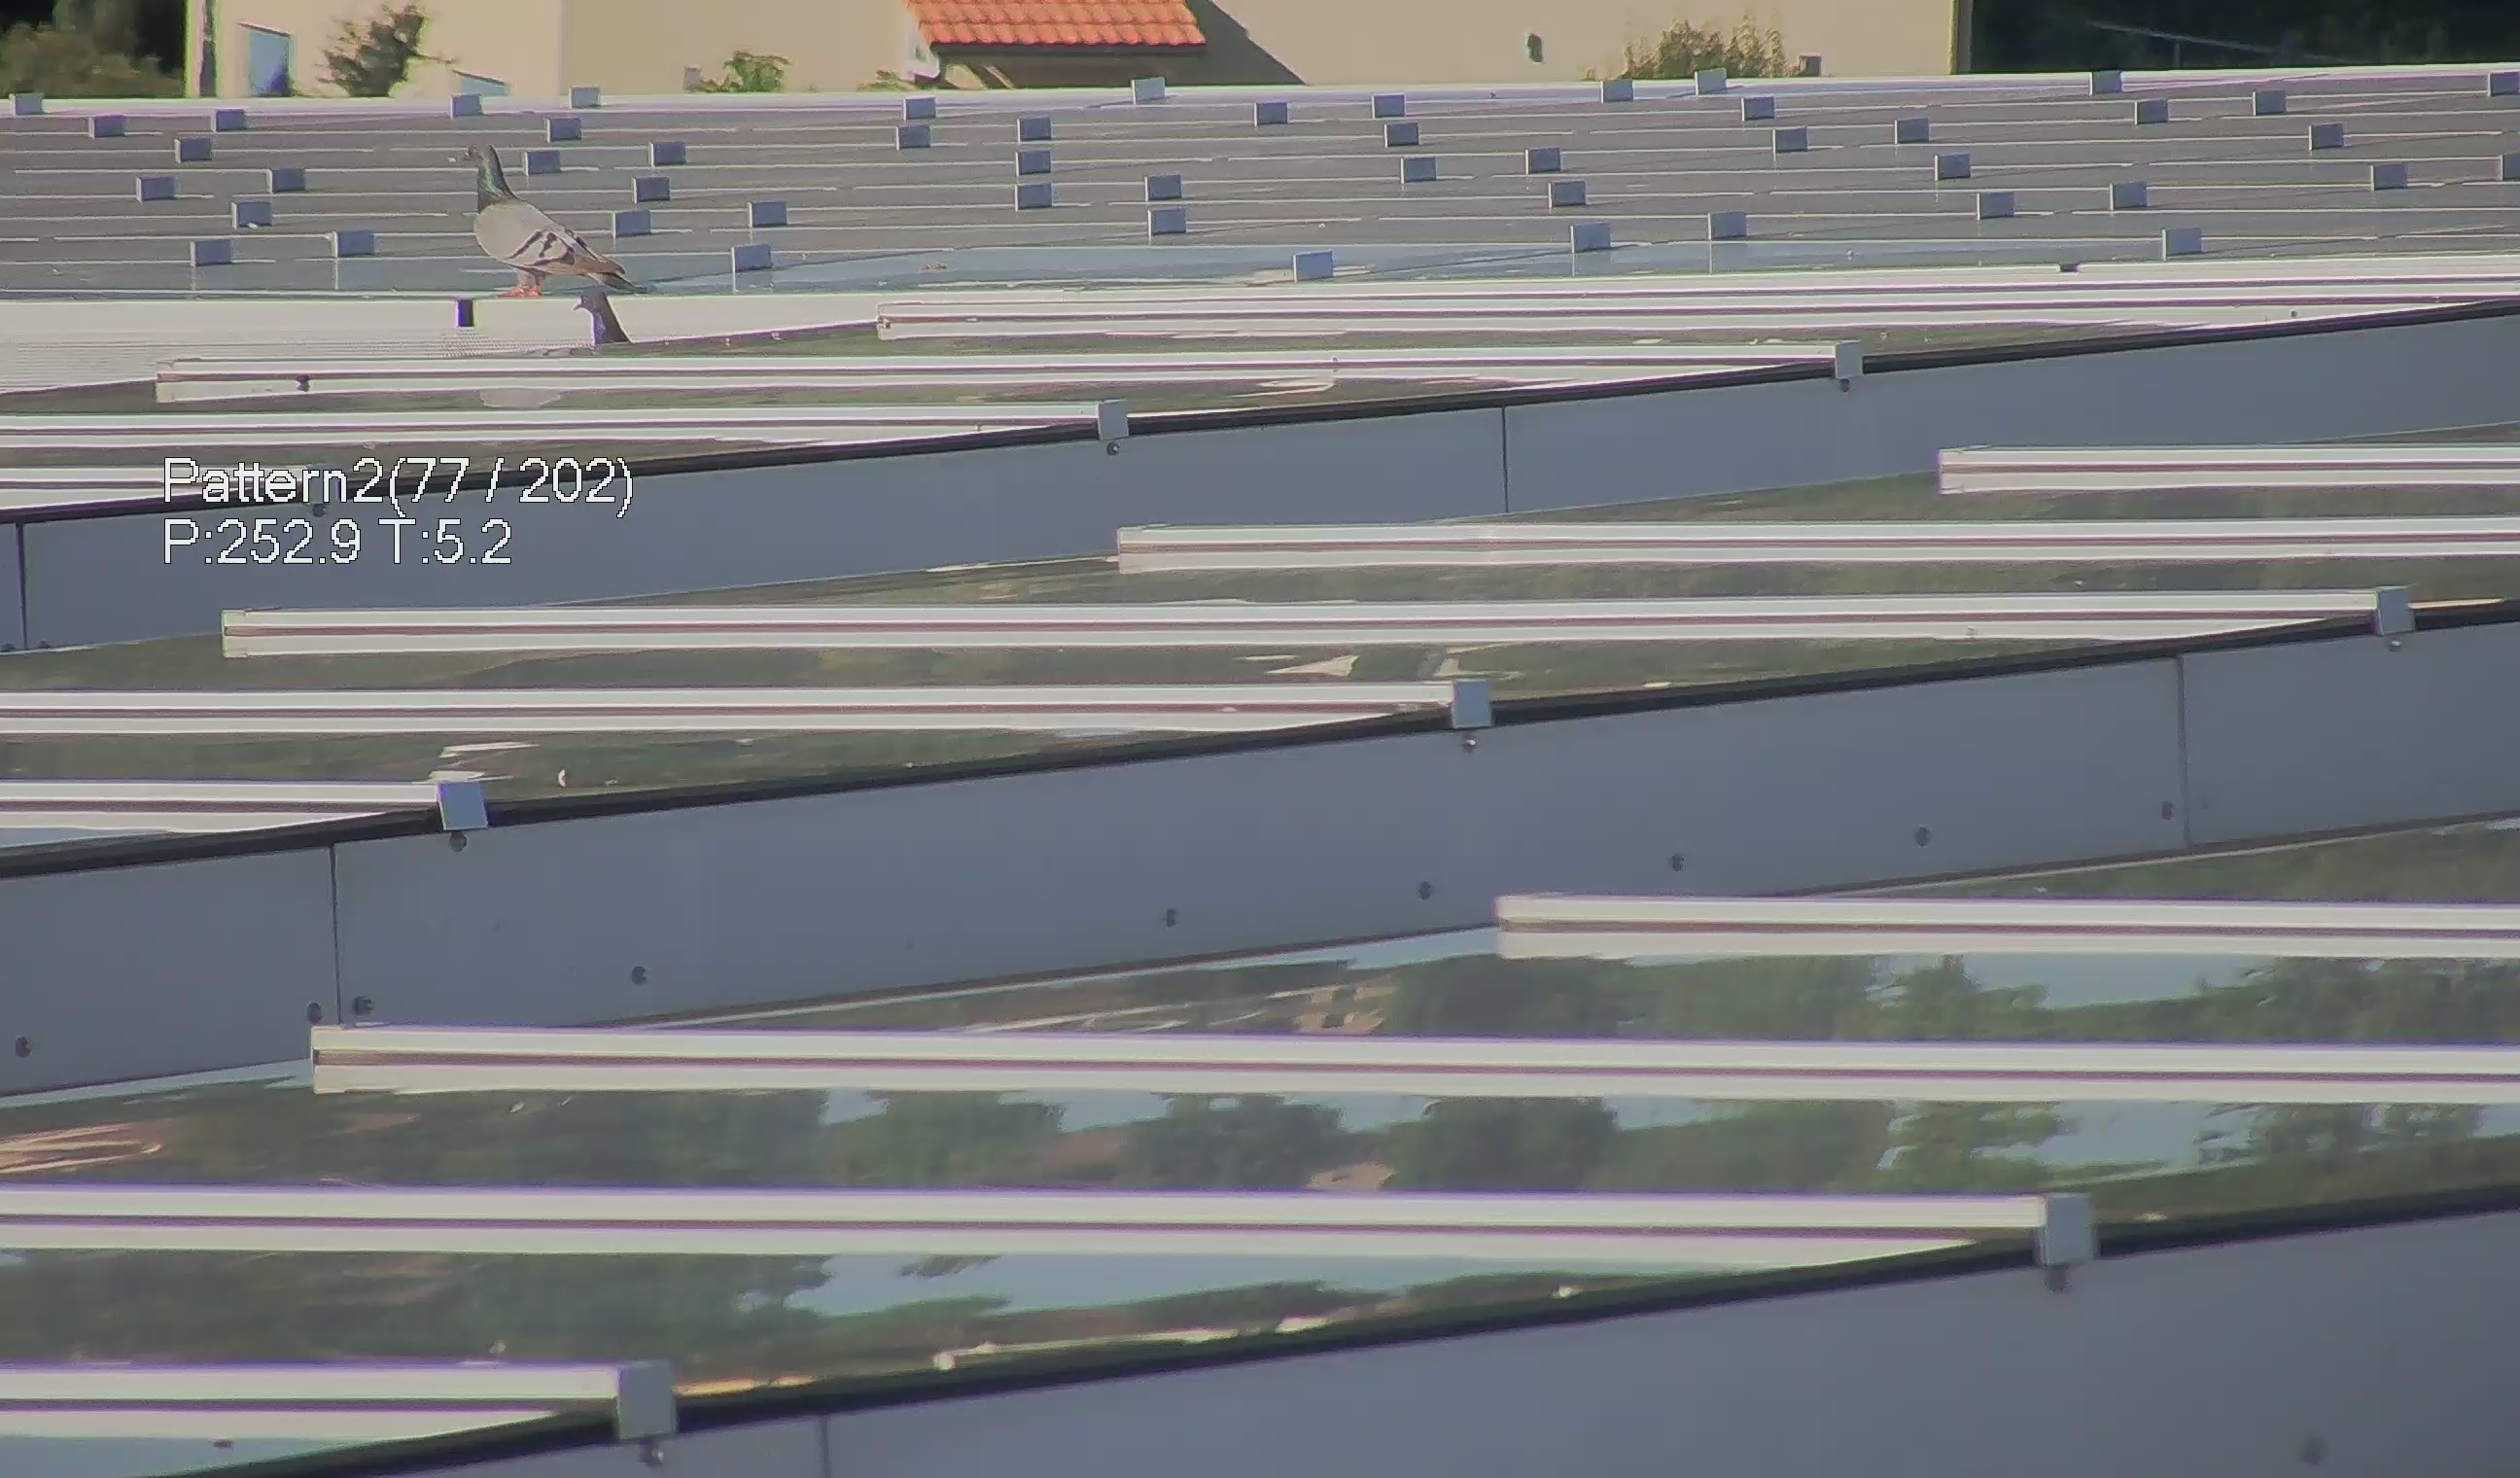Pigeon: (447, 118, 640, 304), (563, 278, 651, 359)
